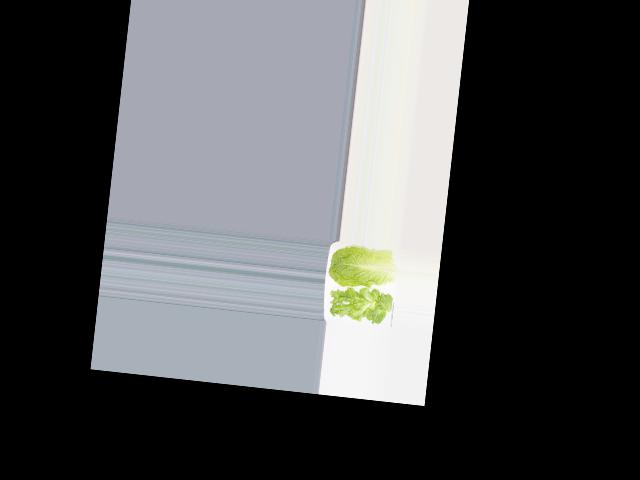lettuce: (326, 285, 391, 329)
